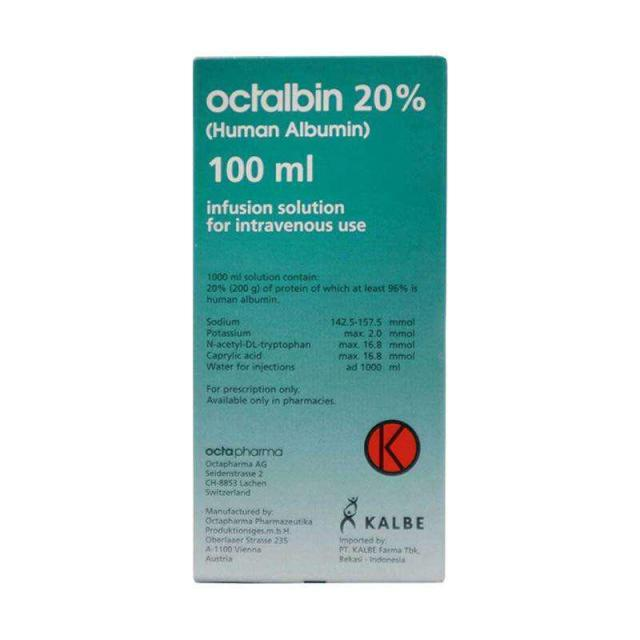drug-name: (205, 80, 428, 114)
